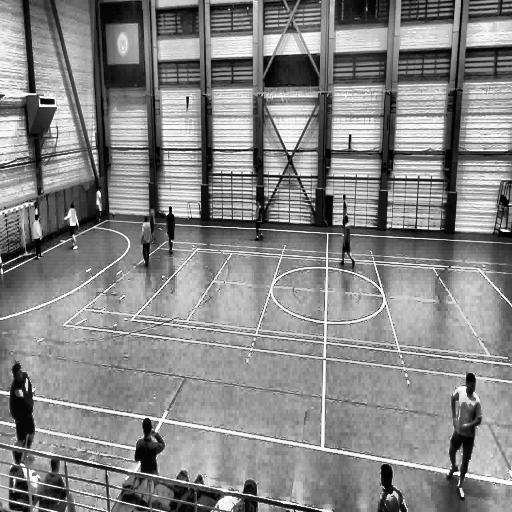ball: (111, 210, 118, 220)
player: (446, 374, 480, 498), (10, 362, 36, 456), (339, 216, 355, 269), (64, 204, 79, 250), (141, 216, 151, 267), (33, 215, 43, 260), (166, 206, 175, 255), (94, 182, 104, 226), (254, 200, 263, 242), (341, 193, 348, 237), (149, 205, 156, 243)
